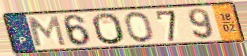6: (62, 13, 93, 48)
7: (155, 10, 178, 42)
9: (188, 7, 216, 41)
M: (27, 15, 68, 48)
O: (91, 12, 127, 46), (123, 11, 156, 44)
